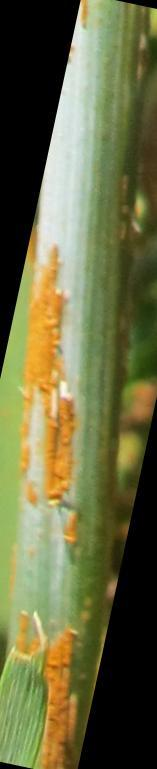Sugarcane: (6, 225, 109, 769)
